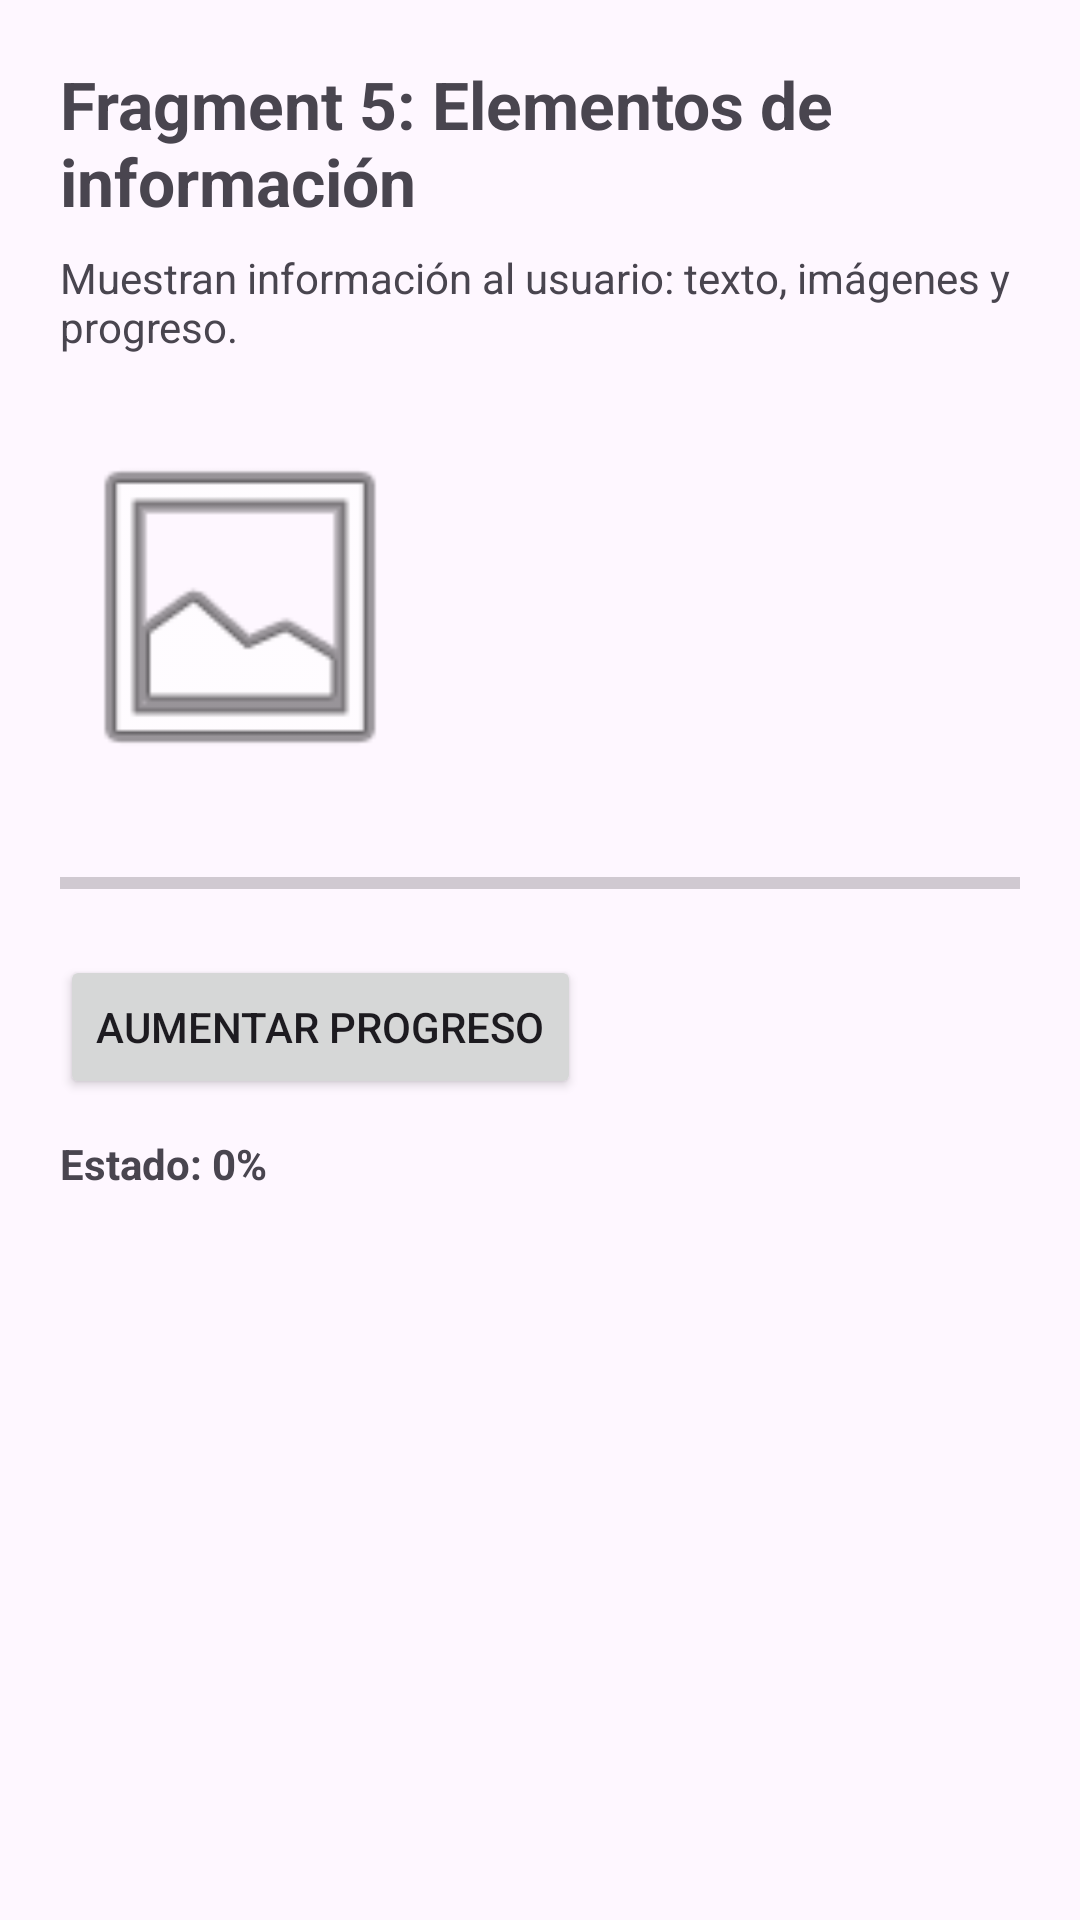

Icon click points for this 1080 x 1920 phone screenshot, format (x,y):
Imagen de ejemplo: (240,607)
